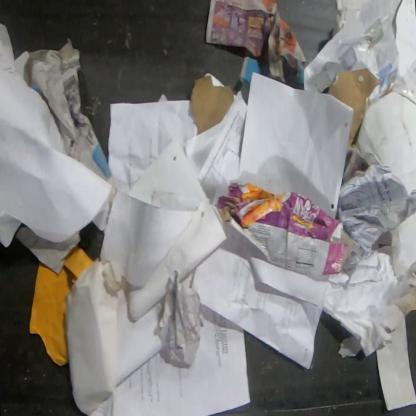cardboard: (213, 182, 354, 283), (29, 244, 94, 368), (325, 68, 382, 149), (189, 75, 234, 136)
